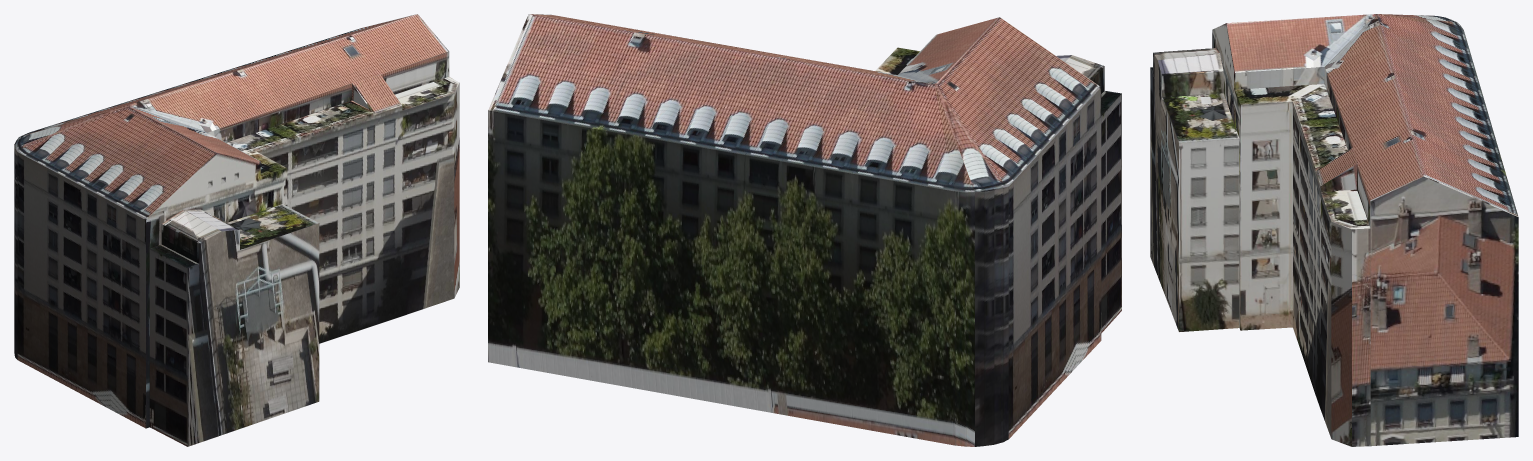
3 views of the same model, side by side, from view 1: azimuth 30°, elevation 25°; view 2: azimuth 150°, elevation 25°; view 3: azimuth 270°, elevation 25° (orthographic). The views are drawn at different scales.
Visible parts, largest first — view 1: Z_UP; view 2: Z_UP; view 3: Z_UP.
Boxes of the visible parts, box(x1,y1,x2,y2) form: Z_UP: box(14, 14, 459, 446); Z_UP: box(488, 14, 1121, 446); Z_UP: box(1150, 14, 1518, 446).
Size of the model in its own units: 41.77 by 24.84 by 30.98.
Materials: 2 (1 with a texture image).
